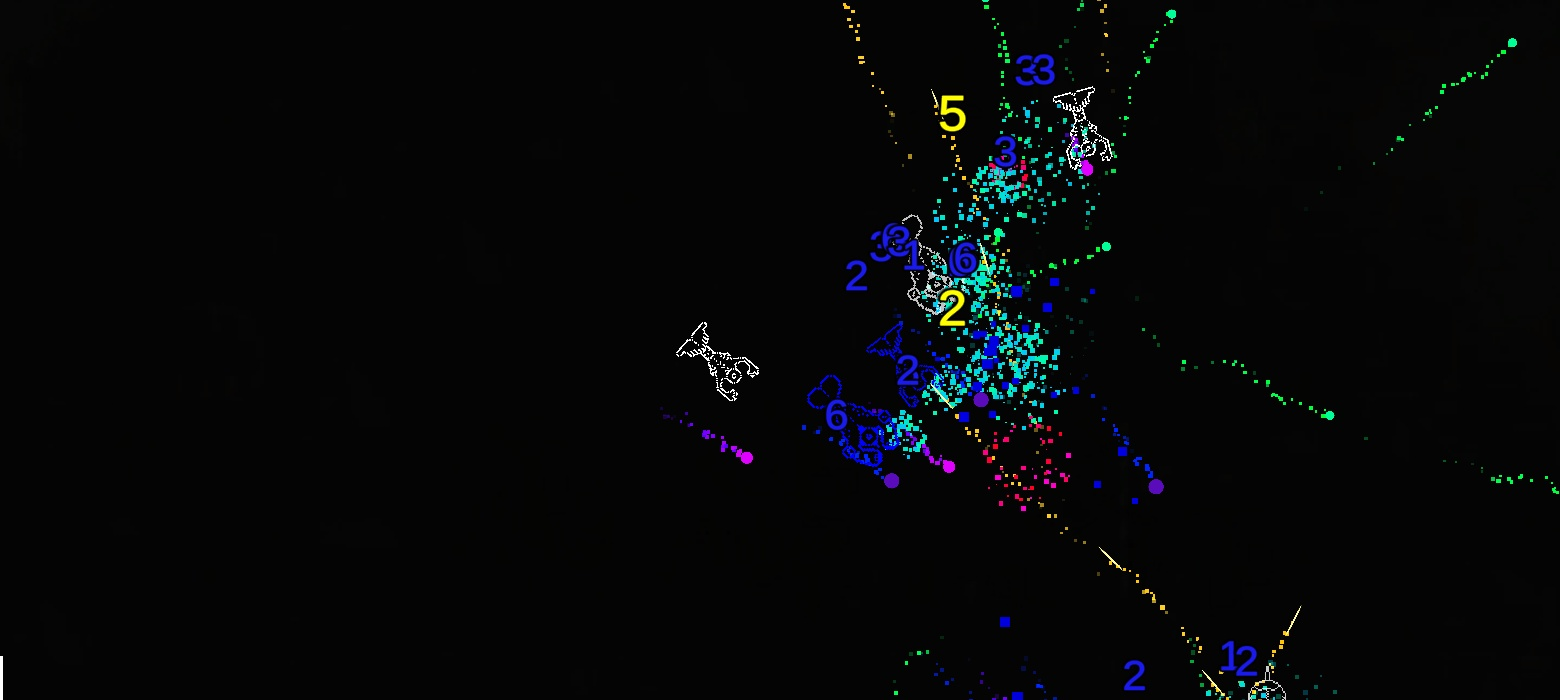enemy: (807, 375, 899, 466), (886, 214, 960, 314), (676, 321, 759, 401), (865, 323, 944, 406), (1052, 87, 1112, 169)
